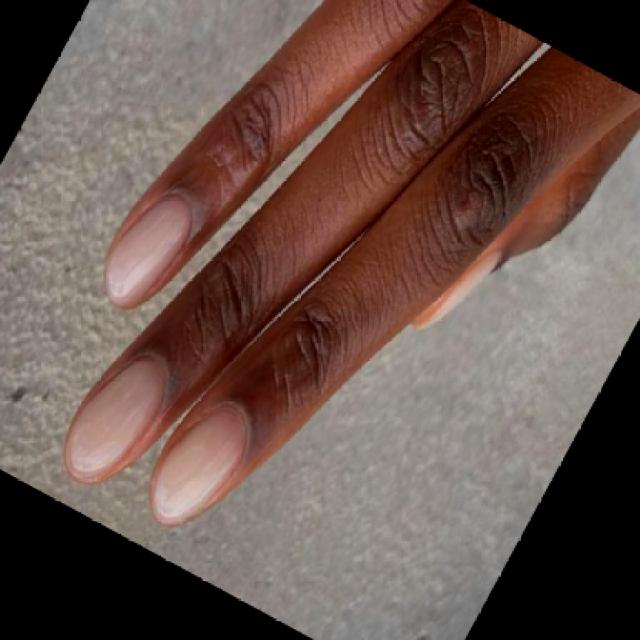Nail: (151, 409, 246, 525), (66, 359, 163, 472), (108, 198, 191, 305)
